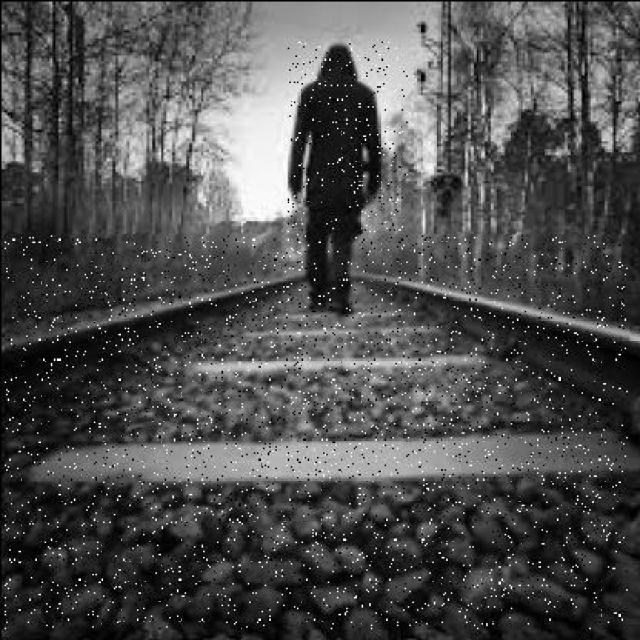danger: (286, 39, 406, 318)
rail: (4, 234, 626, 628)
